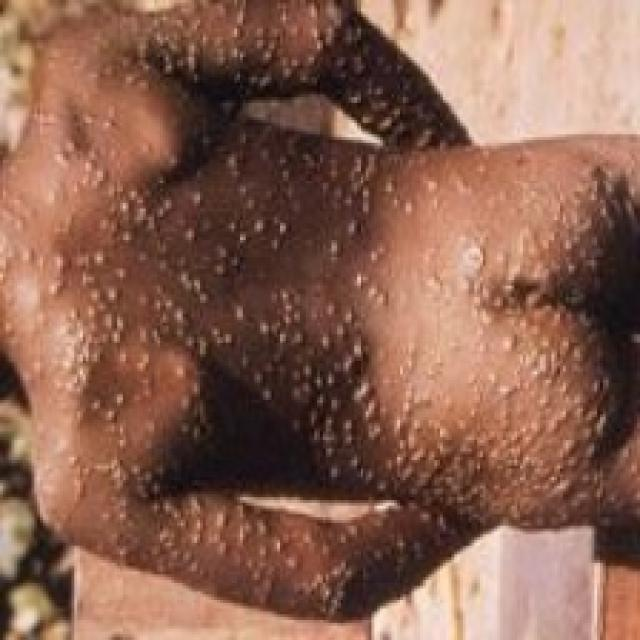Eczema: (7, 0, 636, 608)
